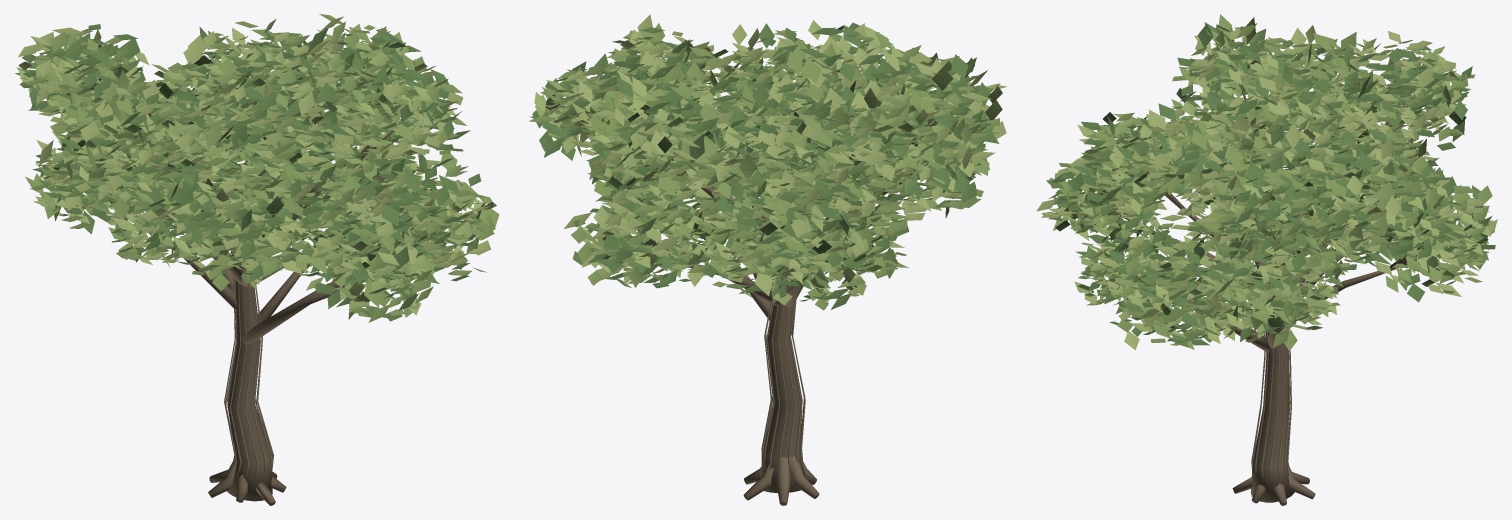
The model's file is tree.glb.
3 renders of one model, left to right at view 1: azimuth 30°, elevation 25°; view 2: azimuth 150°, elevation 25°; view 3: azimuth 270°, elevation 25°, orthographic. The views are drawn at different scales.
Visible parts, largest first — view 1: Tree leaves olive, Tree leaves forest, Tree leaves sunlit, Tree furrowed bark, Tree bark ridges; view 2: Tree leaves sunlit, Tree leaves olive, Tree leaves forest, Tree furrowed bark, Tree bark ridges; view 3: Tree leaves forest, Tree leaves sunlit, Tree leaves olive, Tree furrowed bark, Tree bark ridges.
Boxes of the visible parts, x1,y1,x2,y2 form: Tree leaves olive: (19,14,499,322); Tree leaves forest: (15,24,486,321); Tree leaves sunlit: (18,16,496,315); Tree furrowed bark: (110,74,427,505); Tree bark ridges: (224,247,273,479); Tree leaves sunlit: (534,14,1007,305); Tree leaves olive: (529,23,1002,310); Tree leaves forest: (530,22,999,309); Tree furrowed bark: (598,89,938,505); Tree bark ridges: (761,280,805,474); Tree leaves forest: (1046,22,1495,347); Tree leaves sunlit: (1036,25,1497,349); Tree leaves olive: (1047,14,1492,350); Tree furrowed bark: (1107,66,1435,505); Tree bark ridges: (1251,231,1291,480).
Bounding box in the file's own units: 4.2 × 4.38 × 4.46.
